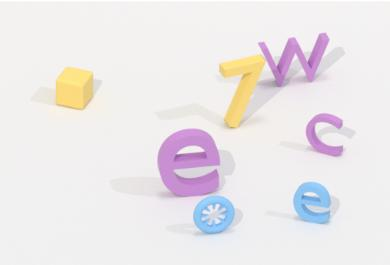0-KhoiVuong: (50, 61, 99, 114)
0-TronLo: (191, 195, 237, 239)
7: (211, 54, 266, 131)
C: (303, 110, 346, 159)
W: (257, 30, 329, 89)
e: (152, 125, 224, 198), (291, 179, 336, 228)
